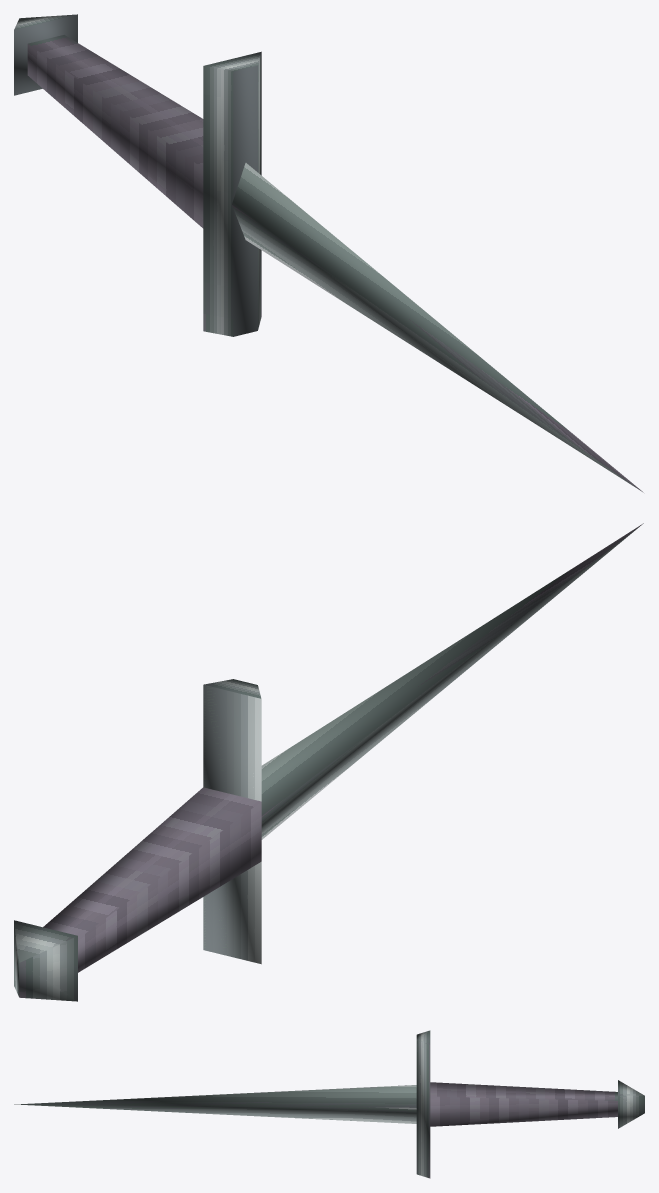
File: Dagger.fbx
The picture shows the model from 3 angles, top to bottom: view 1: azimuth 30°, elevation 25°; view 2: azimuth 150°, elevation 25°; view 3: azimuth 270°, elevation 25°; orthographic projection. The views are drawn at different scales.
Parts seen in each view (by area): view 1: U3DMesh; view 2: U3DMesh; view 3: U3DMesh.
Part boxes in pixels (box(x1,y1,x2,y2)): U3DMesh: box(14, 14, 643, 492); U3DMesh: box(14, 523, 643, 1001); U3DMesh: box(14, 1030, 644, 1178).
Bounding box in the file's own units: 0.0748 × 0.2961 × 1.27.
